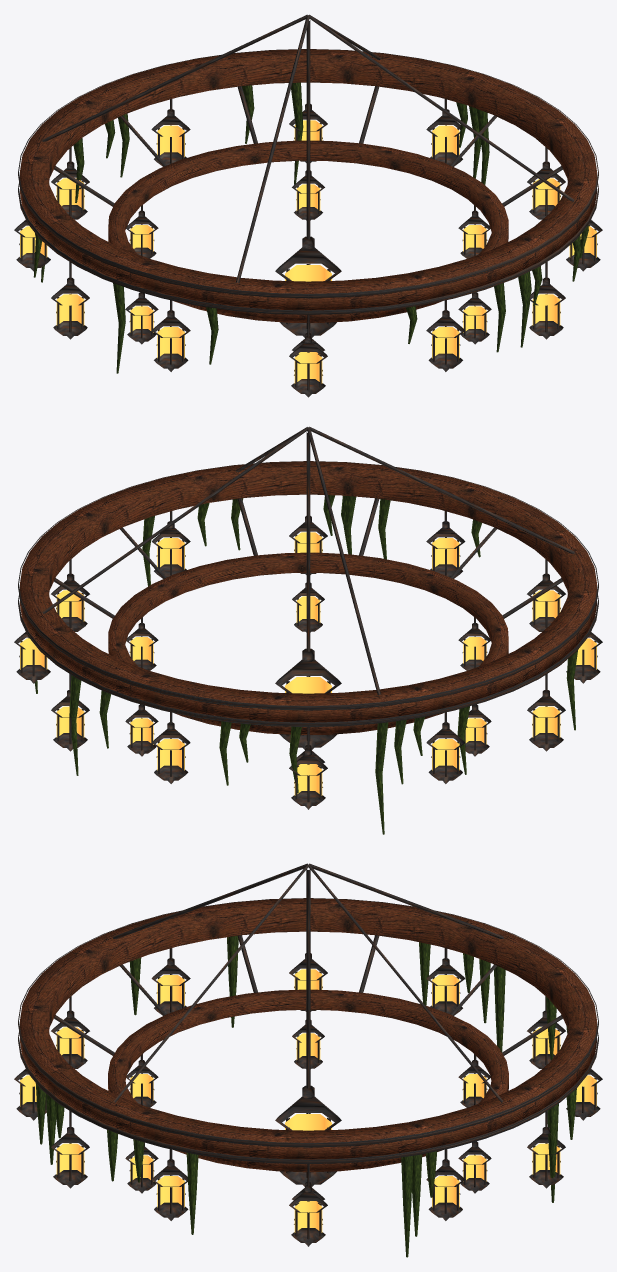
File: sp_lantern_ring.glb
The picture shows the model from 3 angles, top to bottom: view 1: azimuth 30°, elevation 25°; view 2: azimuth 150°, elevation 25°; view 3: azimuth 270°, elevation 25°; orthographic projection.
Parts seen in each view (by area): view 1: spire; view 2: spire; view 3: spire.
Boxes of the visible parts, x1,y1,x2,y2 form: spire: (14, 14, 602, 397); spire: (14, 426, 602, 834); spire: (14, 863, 602, 1257).
Size of the model in its own units: 6.37 by 3.94 by 6.43.
4 materials, 3 textured.
